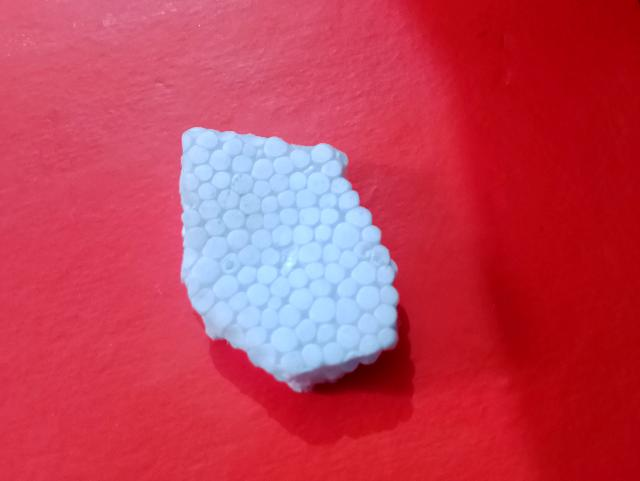cocksheet: (171, 106, 408, 376)
